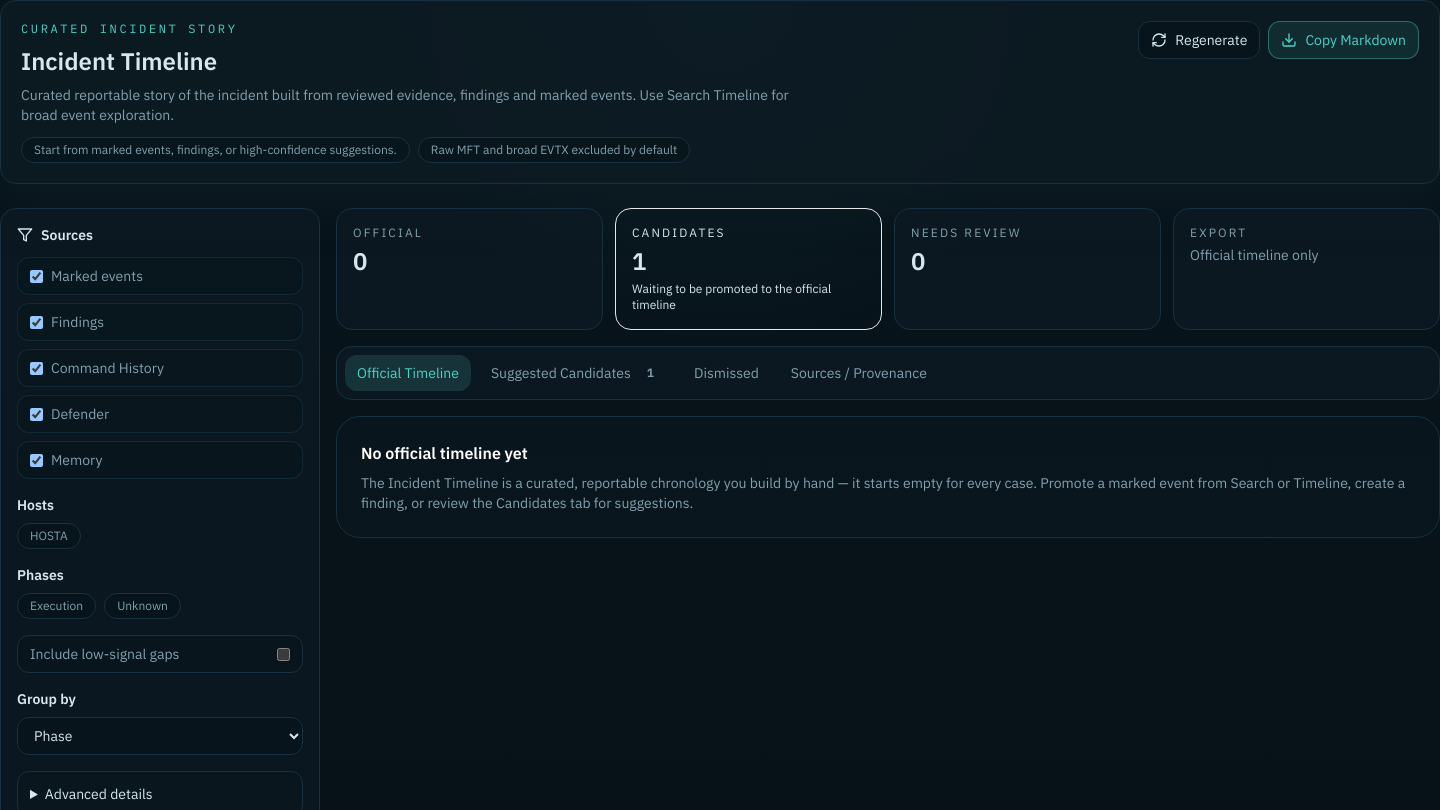
Scenario: IncidentTimelinePage › moves a dismissed candidate to the Dismissed tab, and Restore returns it to Candidates
Click the button "Suggested Candidates 1". click: x=576, y=373
box: [479,355,674,391]
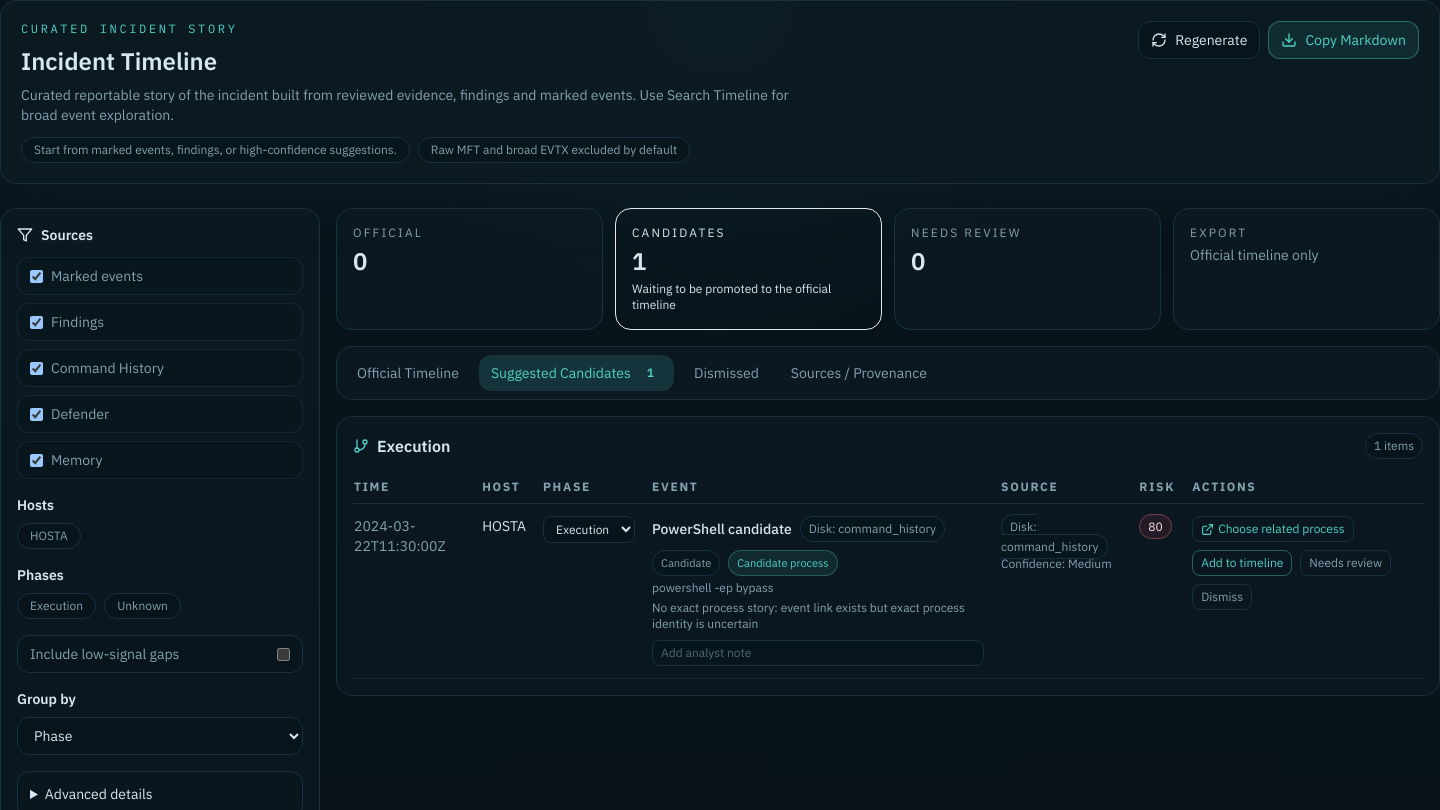
Check: the text "PowerShell candidate" is shown, box [652,519,792,539]
Click the button "Dismiss". click: x=1222, y=597
box: [1192,584,1252,610]
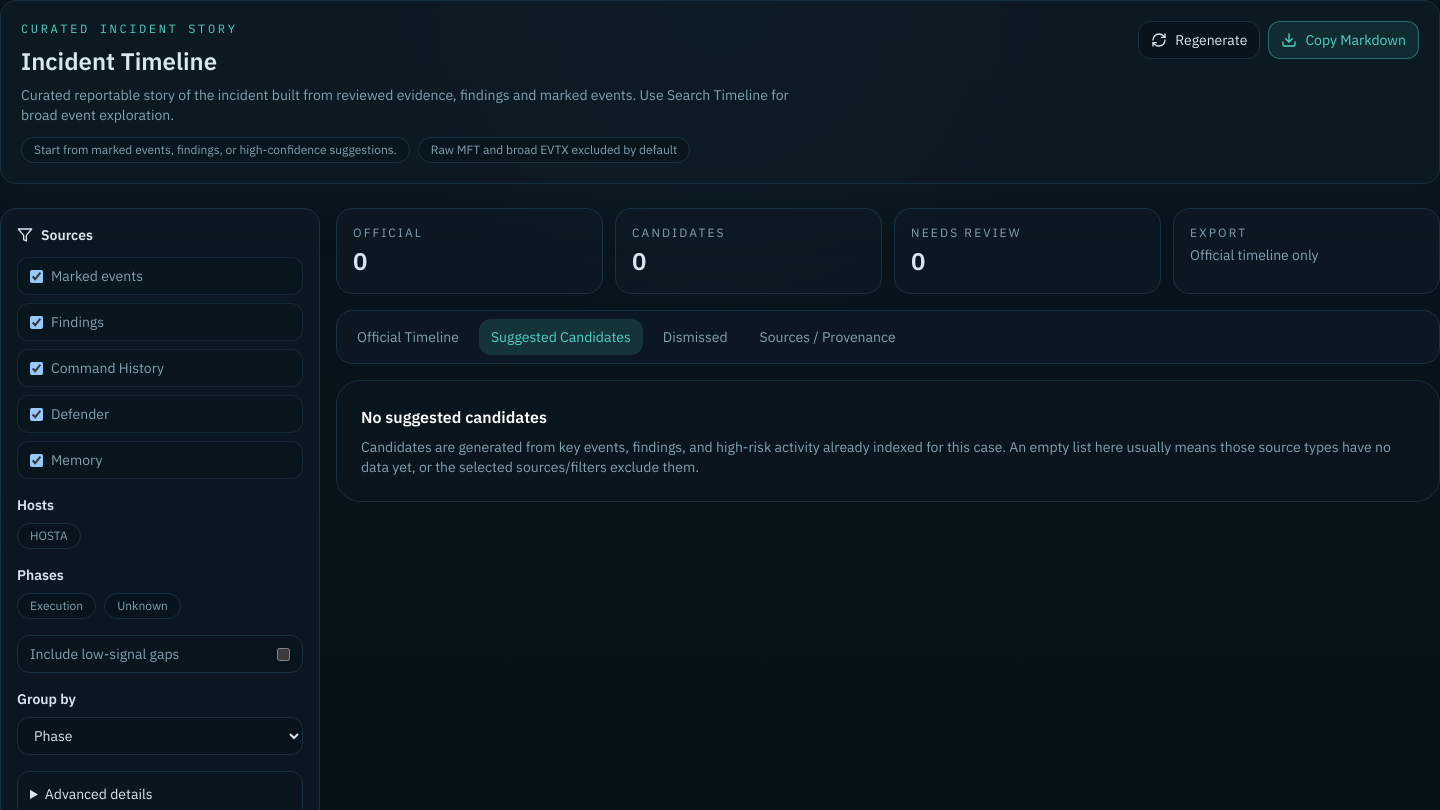
Check: the text "PowerShell candidate" is gone
Click the button "Dismissed". click: x=695, y=337
box: [651,319,740,355]
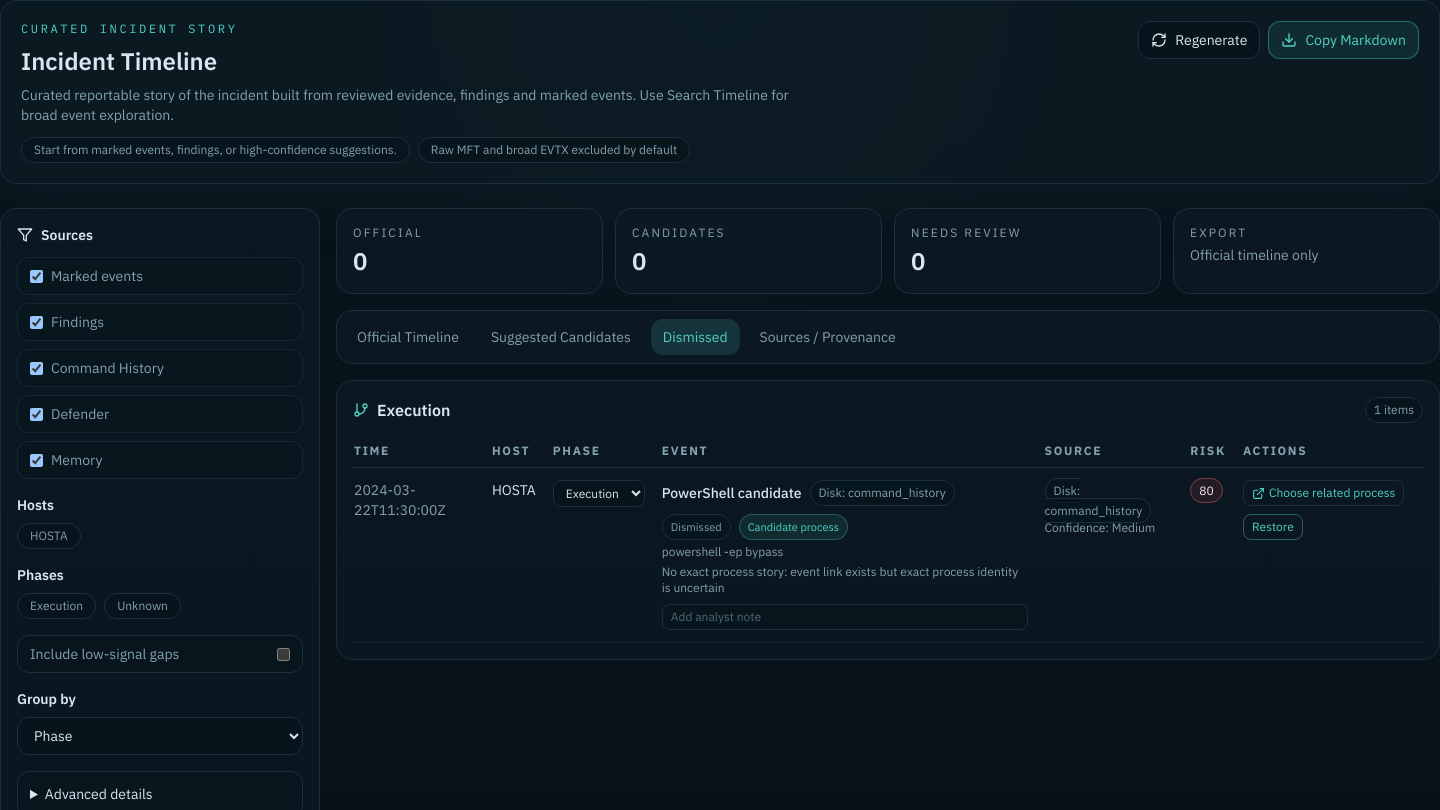
Check: the text "PowerShell candidate" is shown, box [662,483,802,503]
Click the button "Restore". click: x=1273, y=527
box: [1243,514,1303,540]
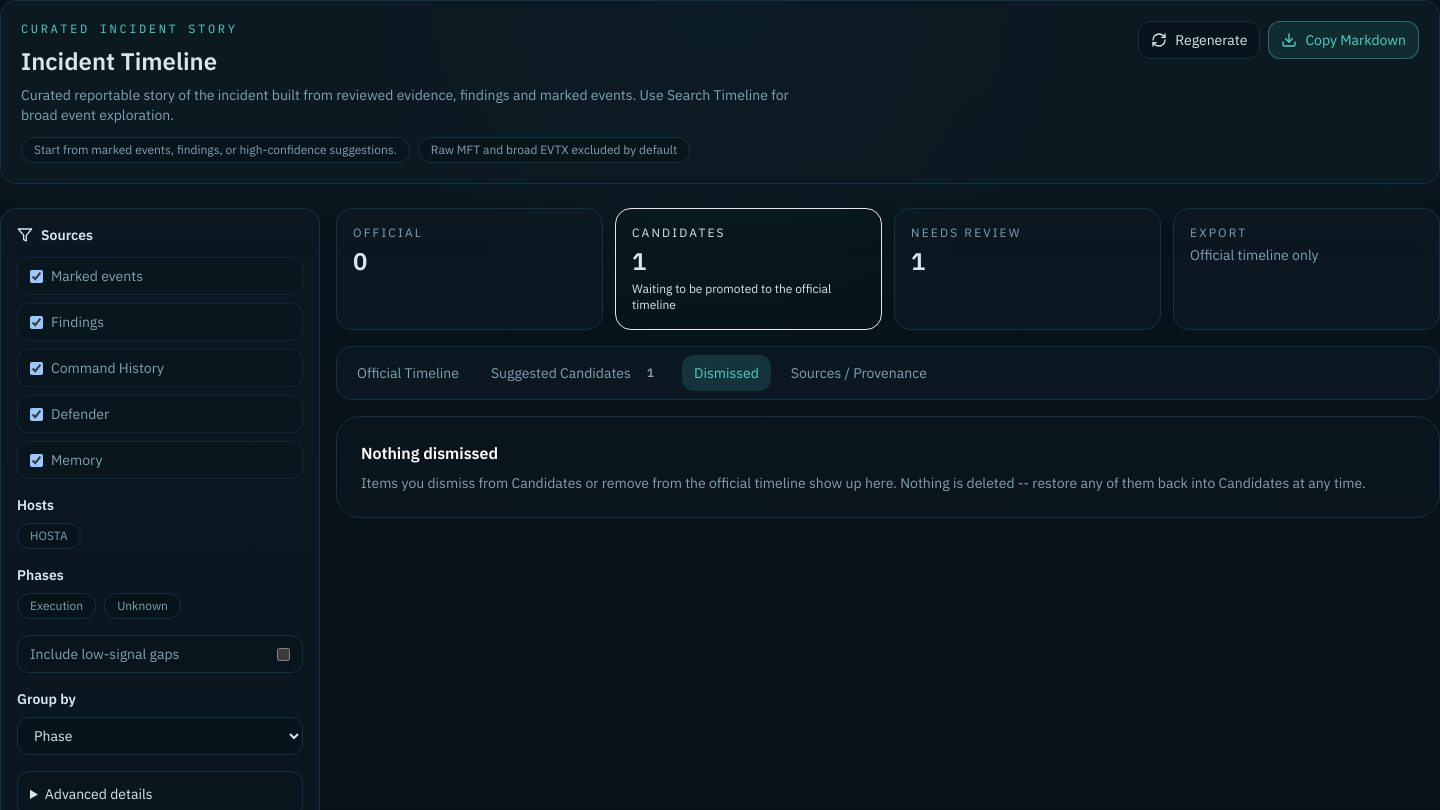
Click the button "Suggested Candidates 1". click: x=576, y=373
box: [479,355,674,391]
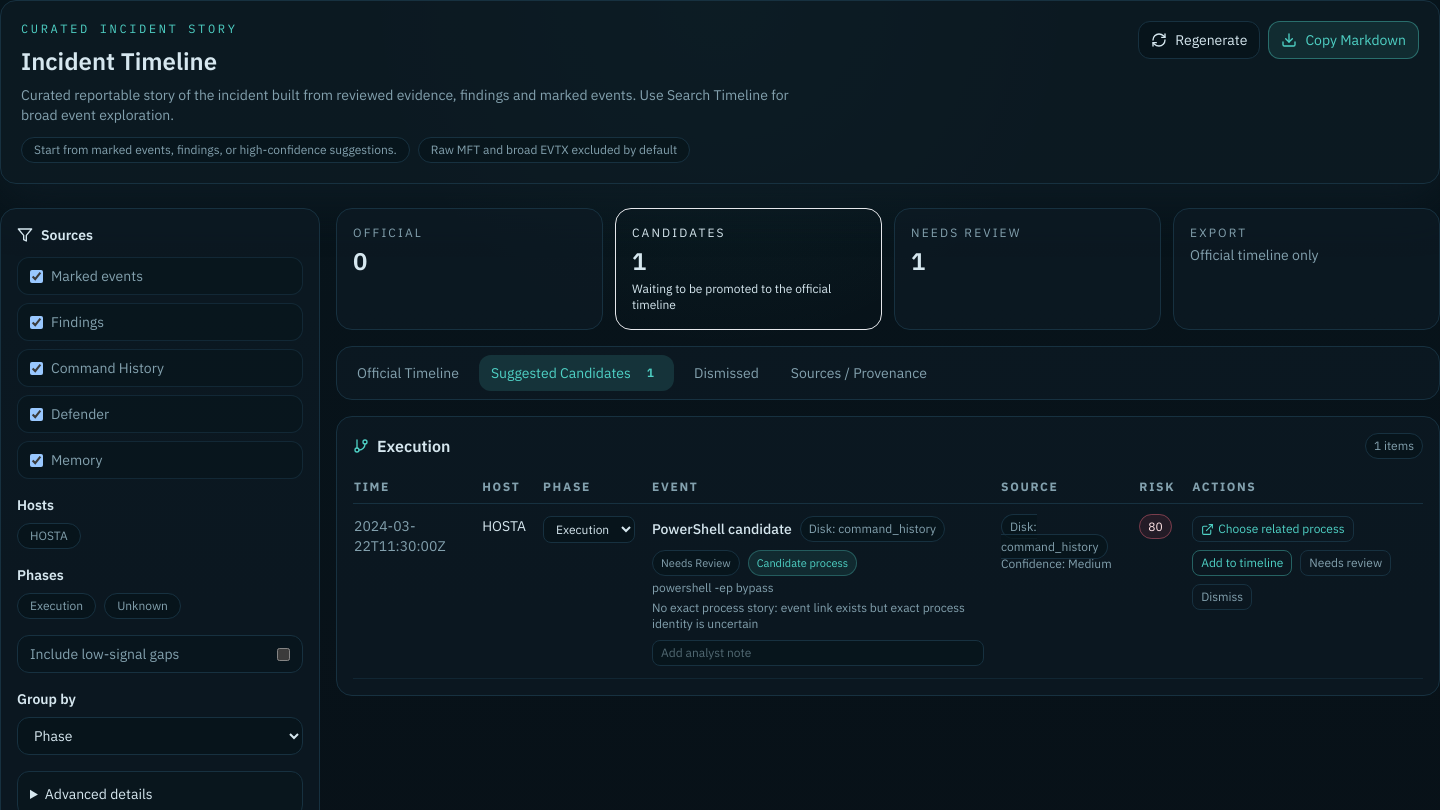
Check: the text "PowerShell candidate" is shown, box [652,519,792,539]
